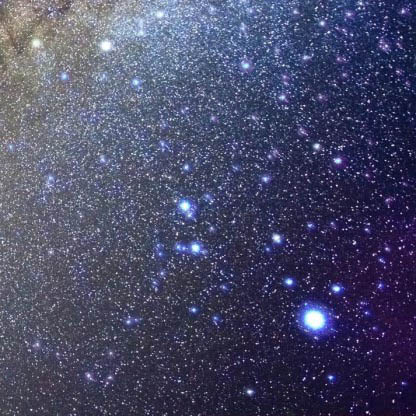Lyra: (291, 302, 331, 337), (182, 238, 204, 259), (265, 226, 285, 249), (279, 273, 297, 292), (176, 195, 191, 216), (329, 281, 346, 299)
